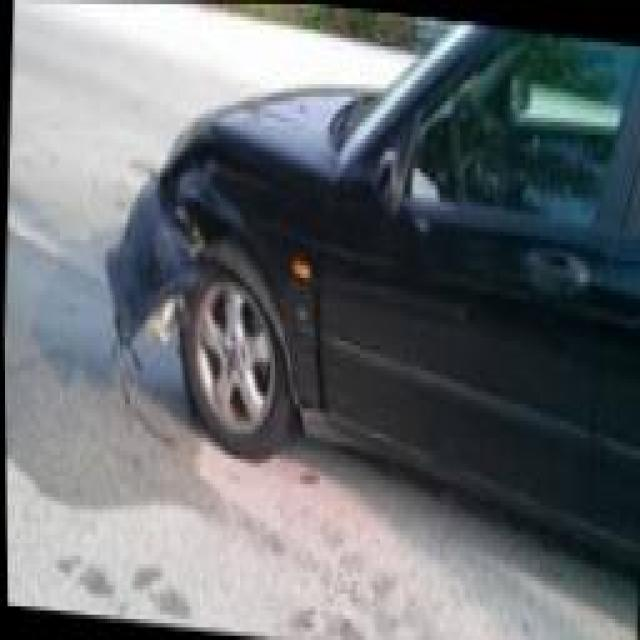Bumper: (97, 173, 206, 376)
Door: (302, 177, 347, 443)
Fender: (161, 116, 320, 336)
